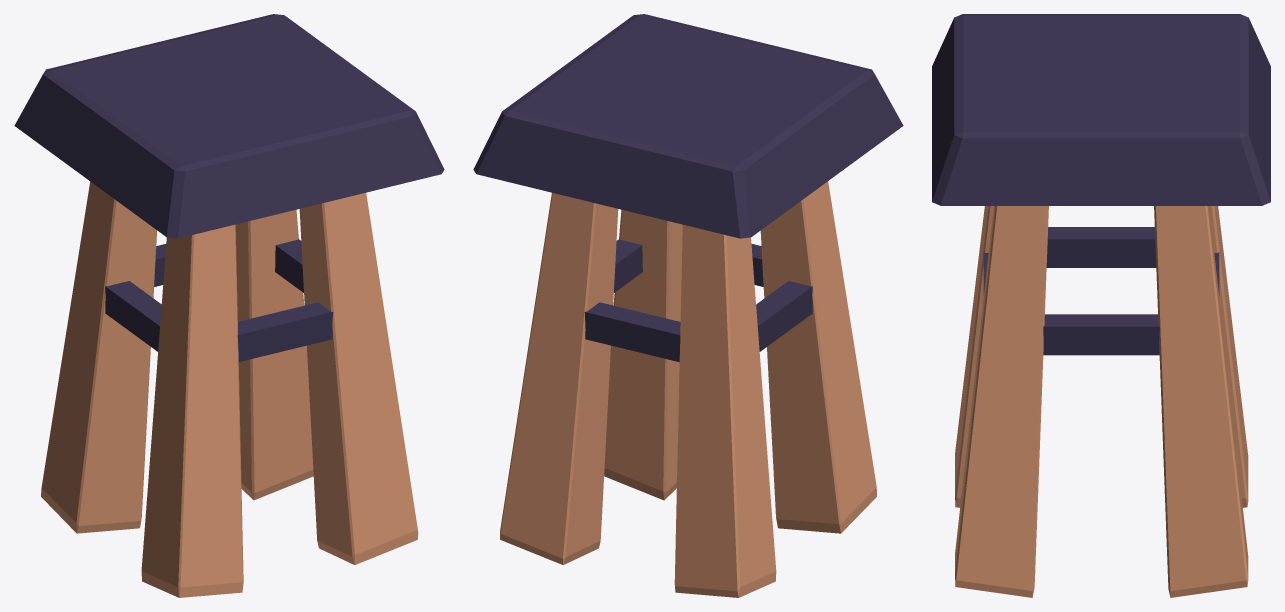
The model's file is classic_stool2.fbx.
3 views of the same model, side by side, from view 1: azimuth 30°, elevation 25°; view 2: azimuth 150°, elevation 25°; view 3: azimuth 270°, elevation 25° (orthographic). The views are drawn at different scales.
Visible parts, largest first — view 1: ClassicStool2; view 2: ClassicStool2; view 3: ClassicStool2.
Part boxes in pixels (x1=…): ClassicStool2: x1=14, y1=14, x2=444, y2=597; ClassicStool2: x1=473, y1=14, x2=903, y2=597; ClassicStool2: x1=932, y1=14, x2=1270, y2=597.
Bounding box in the file's own units: 199 × 307 × 199.
